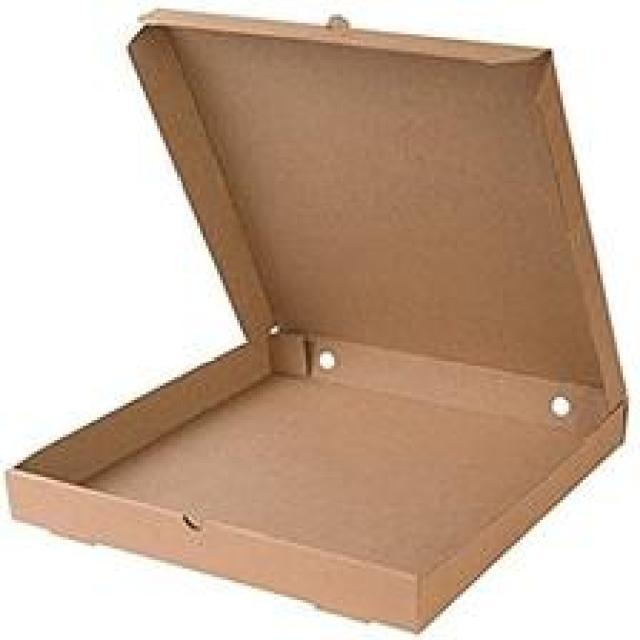Cardboard: (4, 12, 633, 632)
